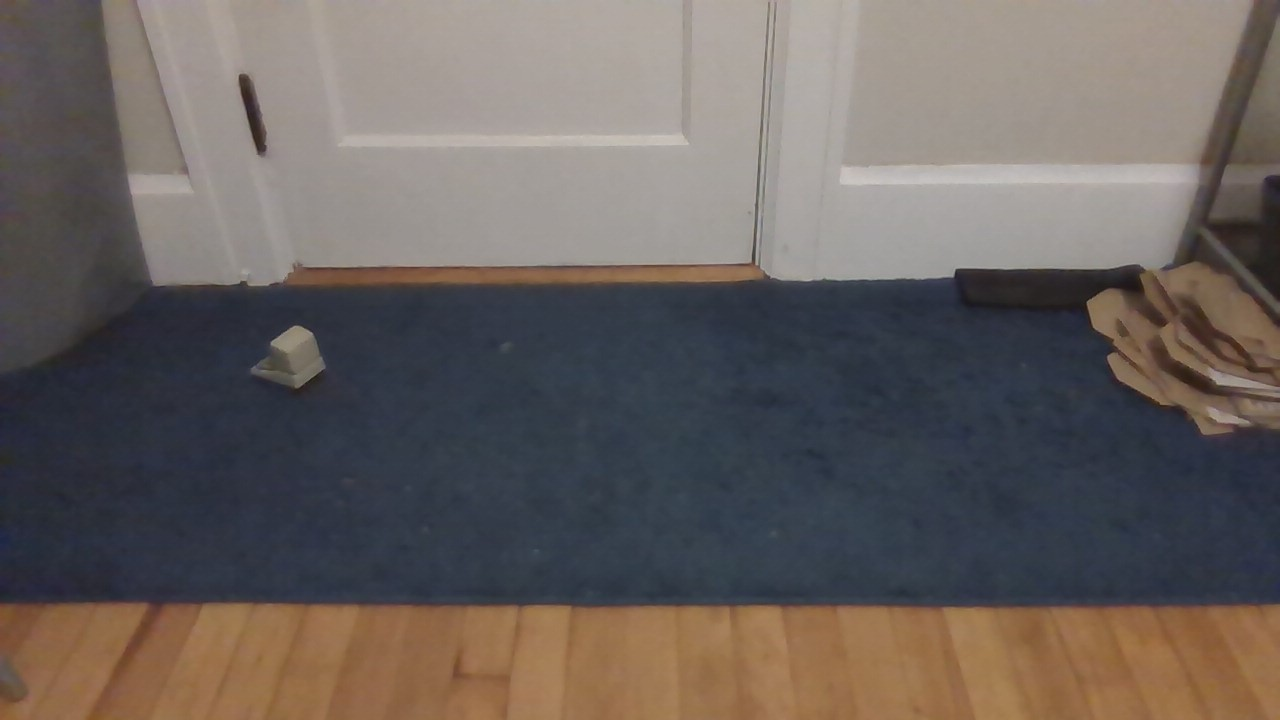Toy: (242, 317, 328, 397)
